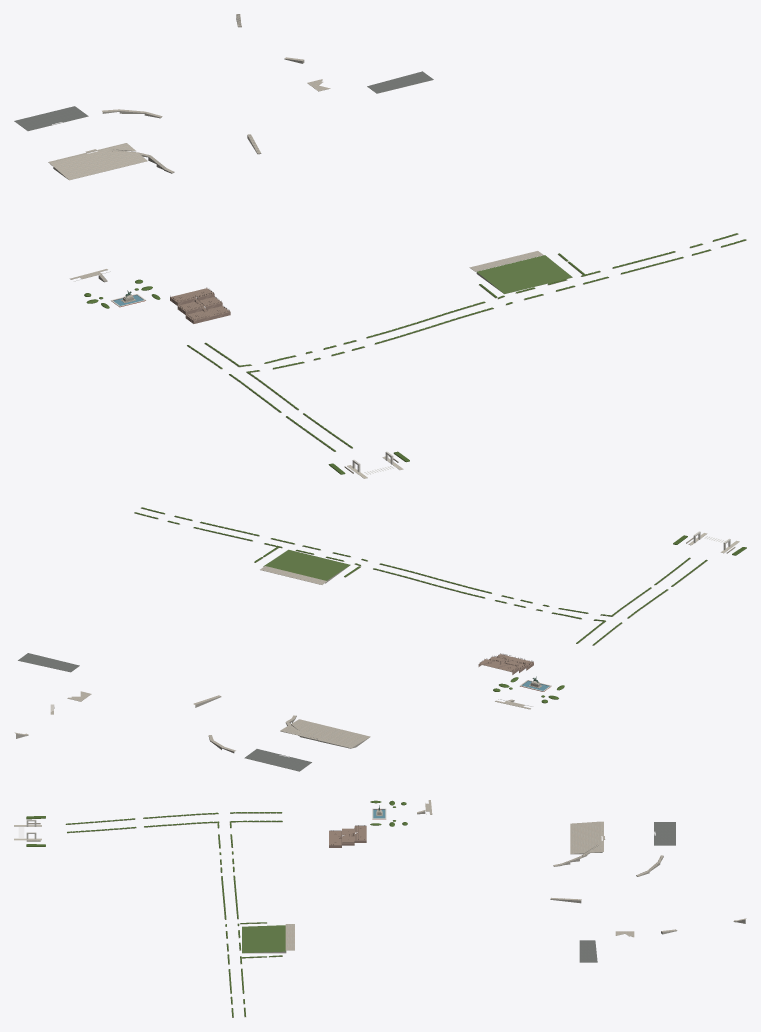
3 views of the same model, one above another, from view 1: azimuth 30°, elevation 25°; view 2: azimuth 150°, elevation 25°; view 3: azimuth 270°, elevation 25° (orthographic). The views are drawn at different scales.
Parts seen in each view (by area): view 1: ajou-graniteLight, r3-gate-boundary__hedge, yulgok-lawn__gardenGreen, ajou-asphalt, gate-paved-walk__graniteWarm, terrace-decks__woodDeck, osm-steps-468774552-1__graniteRiser; view 2: r3-gate-boundary__hedge, ajou-graniteLight, yulgok-lawn__gardenGreen, ajou-asphalt, gate-paved-walk__graniteWarm, osm-steps-468774552-1__graniteRiser, terrace-decks__woodDeck; view 3: ajou-graniteLight, r3-gate-boundary__hedge, yulgok-lawn__gardenGreen, ajou-asphalt, gate-paved-walk__graniteWarm, terrace-decks__woodDeck, osm-steps-468774552-1__graniteRiser.
Part boxes in pixels (x1=…): ajou-graniteLight: x1=48, y1=14, x2=543, y2=472; r3-gate-boundary__hedge: x1=84, y1=233, x2=745, y2=474; yulgok-lawn__gardenGreen: x1=477, y1=255, x2=572, y2=293; ajou-asphalt: x1=14, y1=71, x2=433, y2=130; gate-paved-walk__graniteWarm: x1=187, y1=234, x2=746, y2=478; terrace-decks__woodDeck: x1=170, y1=288, x2=230, y2=320; osm-steps-468774552-1__graniteRiser: x1=14, y1=14, x2=571, y2=478; r3-gate-boundary__hedge: x1=134, y1=507, x2=746, y2=703; ajou-graniteLight: x1=14, y1=537, x2=734, y2=751; yulgok-lawn__gardenGreen: x1=263, y1=549, x2=350, y2=580; ajou-asphalt: x1=18, y1=653, x2=311, y2=771; gate-paved-walk__graniteWarm: x1=134, y1=508, x2=739, y2=645; osm-steps-468774552-1__graniteRiser: x1=16, y1=534, x2=737, y2=771; terrace-decks__woodDeck: x1=479, y1=654, x2=533, y2=671; ajou-graniteLight: x1=26, y1=800, x2=746, y2=950; r3-gate-boundary__hedge: x1=26, y1=800, x2=407, y2=1017; yulgok-lawn__gardenGreen: x1=242, y1=925, x2=286, y2=953; ajou-asphalt: x1=579, y1=822, x2=675, y2=962; gate-paved-walk__graniteWarm: x1=14, y1=812, x2=282, y2=1017; terrace-decks__woodDeck: x1=329, y1=826, x2=366, y2=845; osm-steps-468774552-1__graniteRiser: x1=14, y1=810, x2=745, y2=953.
Size of the model in its own units: 441 by 35.14 by 630.
Materials: 16 (2 with a texture image).
